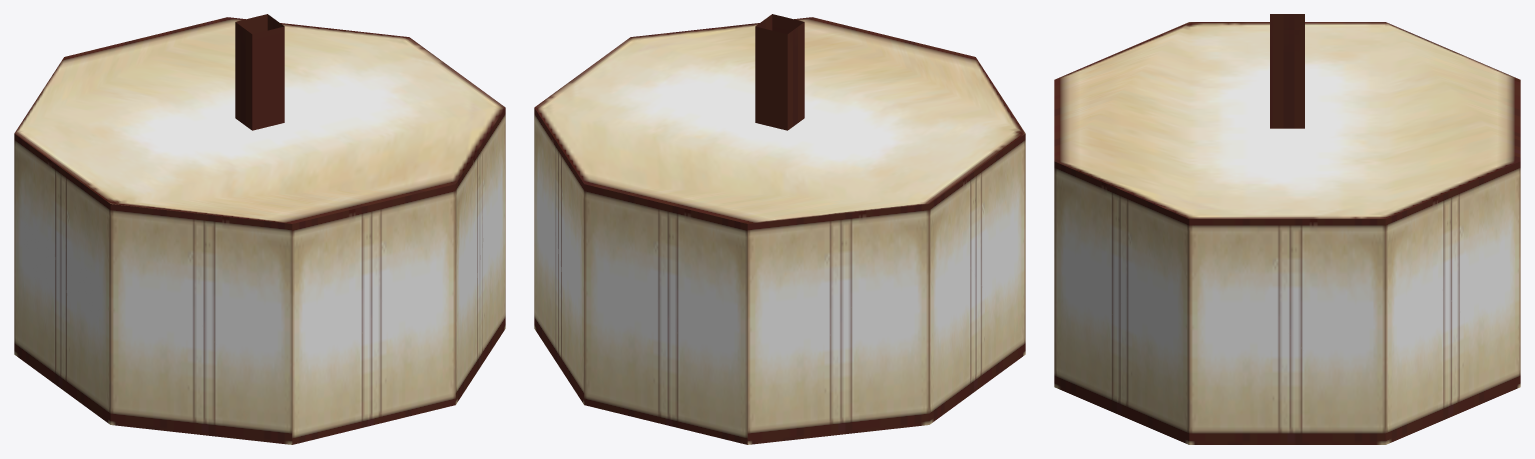
The model's file is it_ceiling_light02.fbx.
3 views of the same model, side by side, from view 1: azimuth 30°, elevation 25°; view 2: azimuth 150°, elevation 25°; view 3: azimuth 270°, elevation 25° (orthographic). The views are drawn at different scales.
Parts seen in each view (by area): view 1: mesh_0; view 2: mesh_0; view 3: mesh_0.
Boxes of the visible parts, box(x1,y1,x2,y2) form: mesh_0: box(14, 14, 505, 444); mesh_0: box(534, 14, 1025, 444); mesh_0: box(1054, 14, 1520, 444).
Bounding box in the file's own units: 64 × 49.12 × 64.
1 material, 1 textured.
